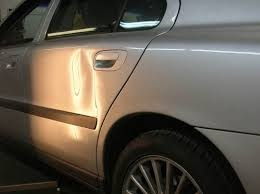Dent: (68, 49, 104, 117)
